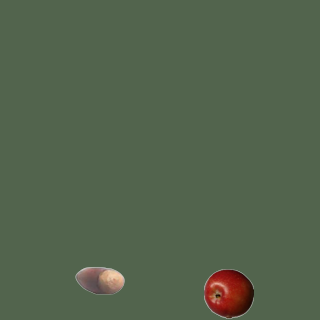Apple Braeburn: (203, 268, 253, 318)
Hazelnut: (74, 255, 124, 305)
